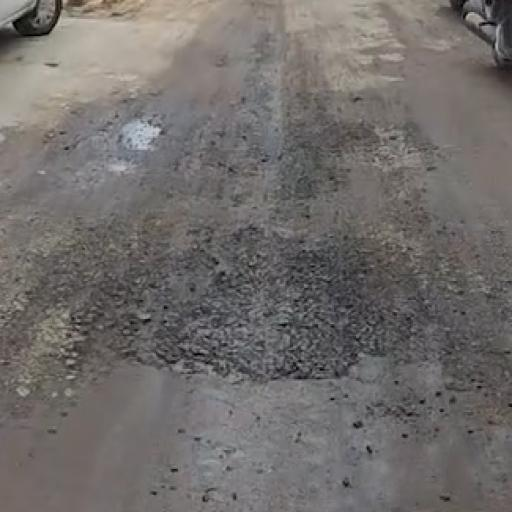ravelling: (48, 198, 483, 443)
